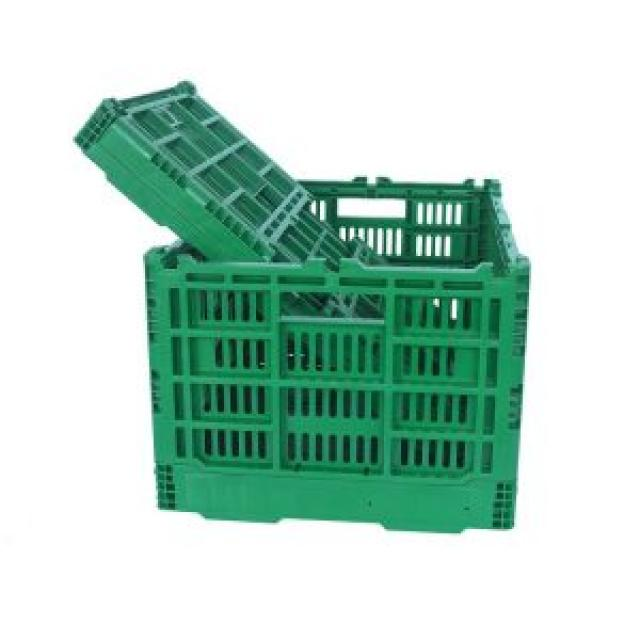basket: (56, 75, 541, 538), (66, 47, 363, 337)
